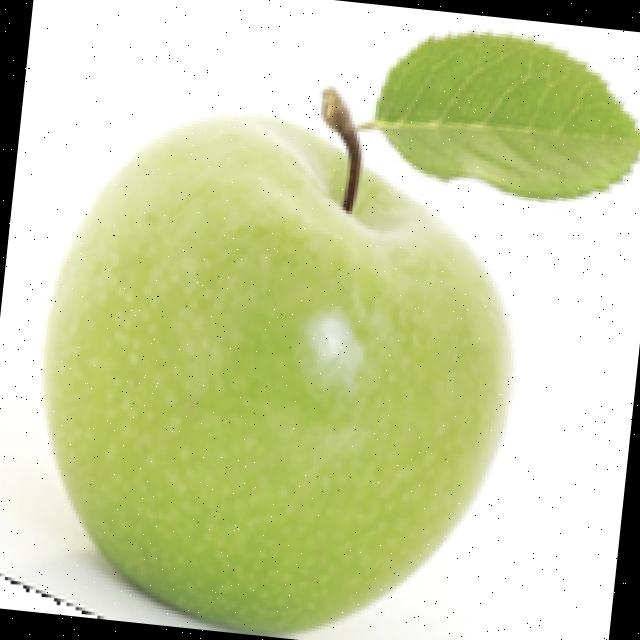apple: (0, 24, 640, 637)
